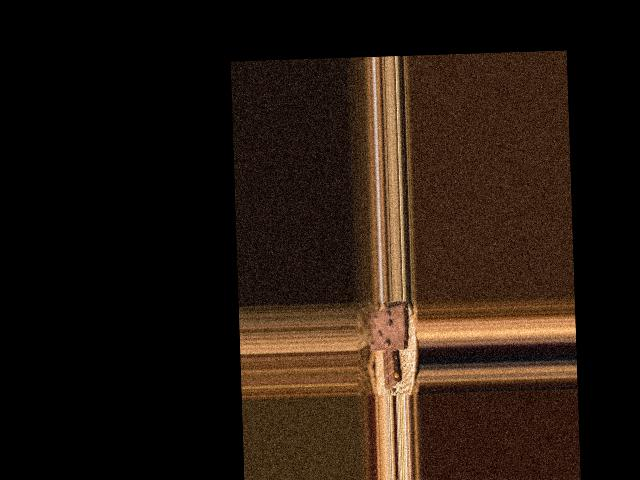chocolate: (368, 303, 409, 353)
